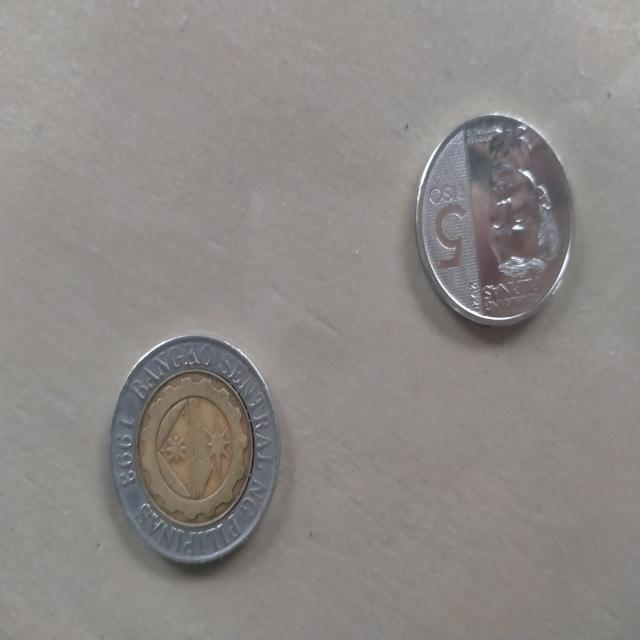10_Old_Back: (110, 333, 280, 563)
5_New_Front: (420, 174, 486, 289)
